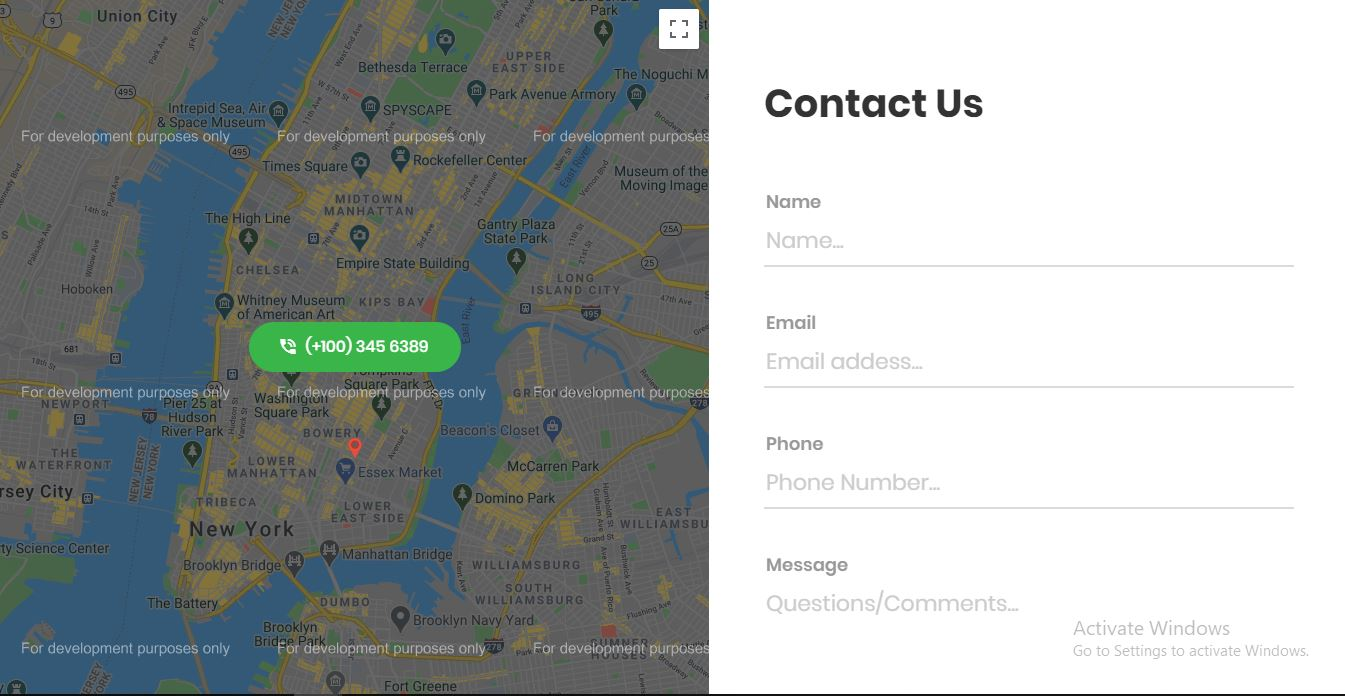Button: (248, 320, 458, 380)
Text Field: (754, 451, 1295, 517), (754, 211, 1329, 271), (754, 584, 1321, 642), (752, 340, 1305, 398)
